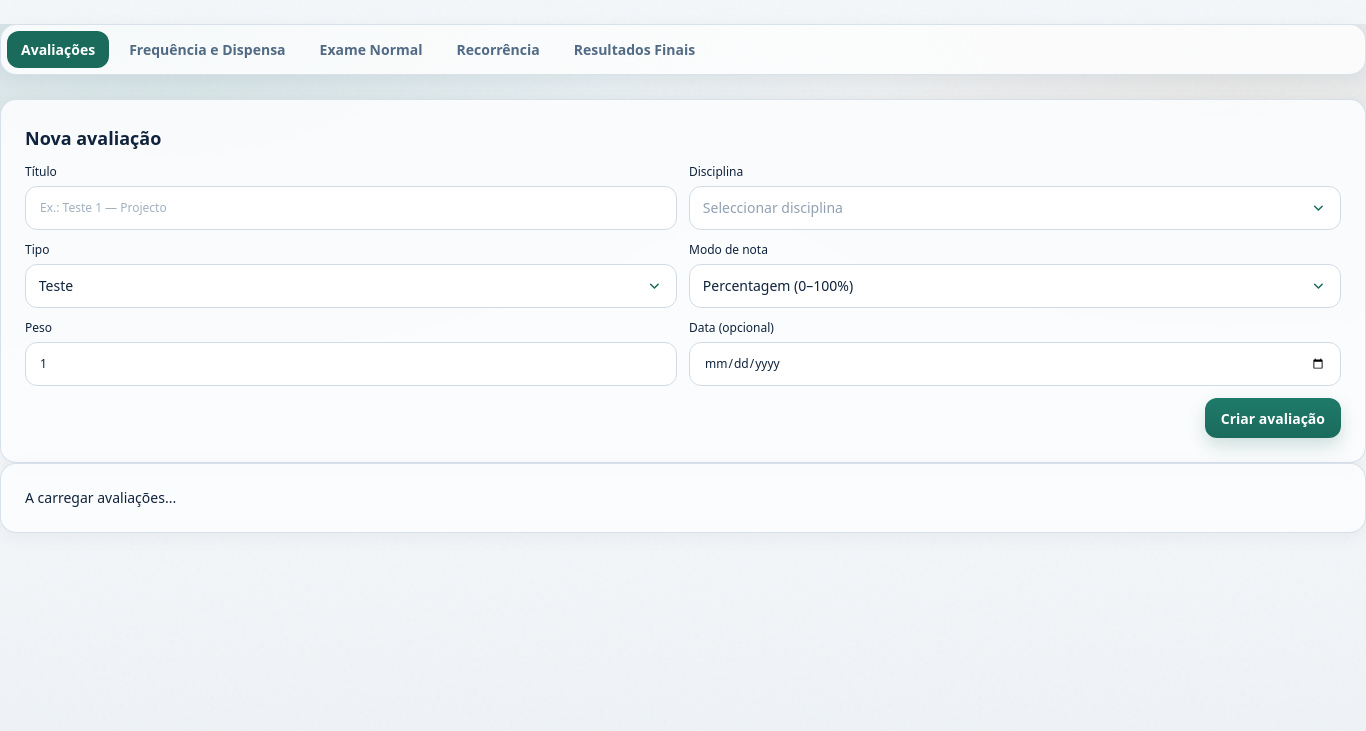
Scenario: AssessmentsPage › docente guarda as regras da disciplina (testes exigidos e mínimo de recorrência)
Click the tab "Frequência e Dispensa" at {"x": 207, "y": 50}, box [115, 31, 300, 68]
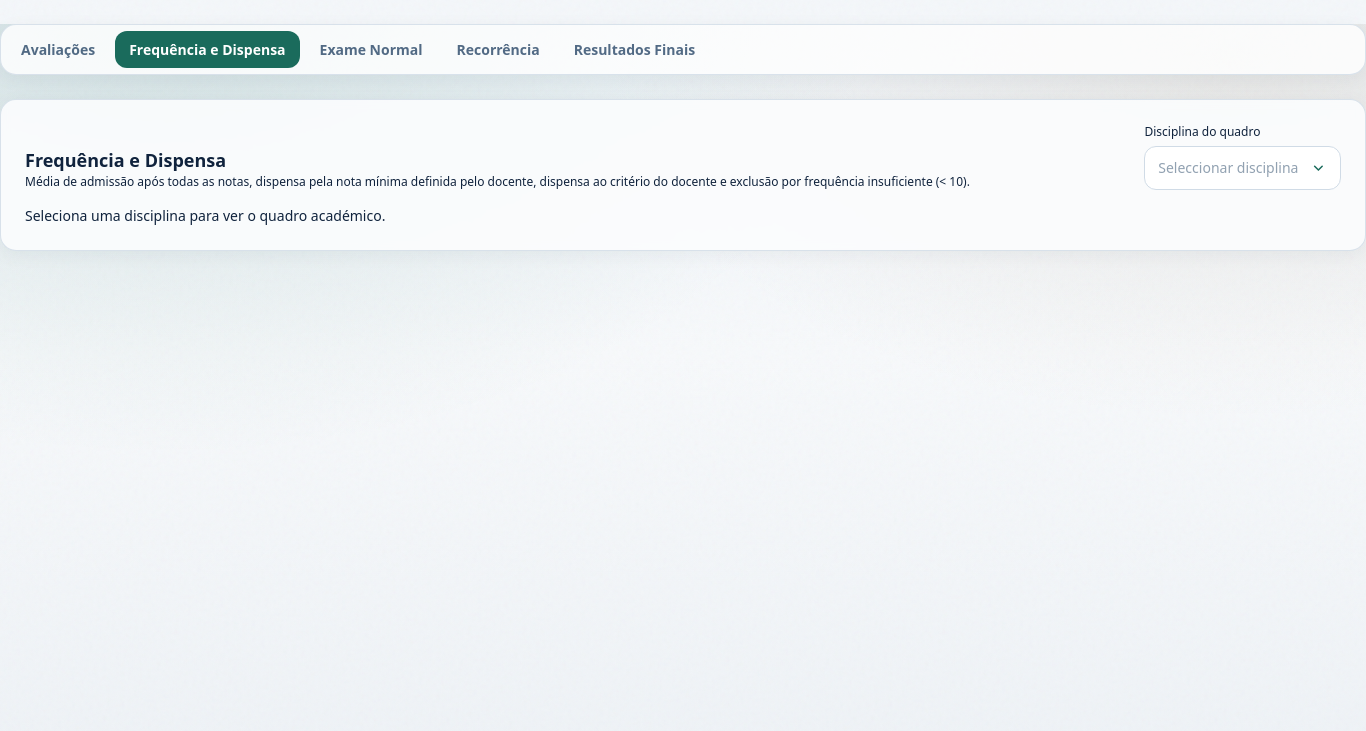
Expected: the label labelled "Disciplina do quadro" is shown
Select "PTP3 — Projeto" in the dropdown labelled "Disciplina do quadro Seleccionar disciplina" at {"x": 1243, "y": 157}, box [1144, 124, 1341, 190]
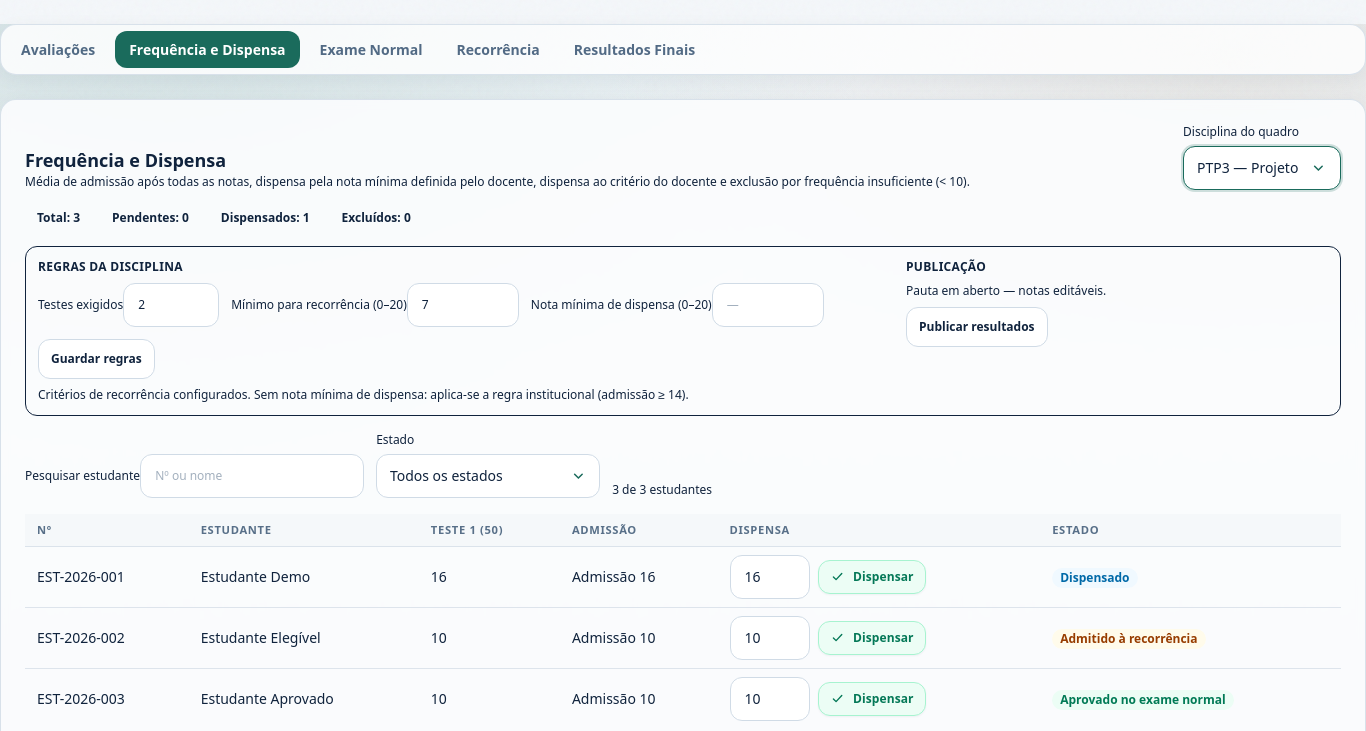
Expected: the number field labelled "Testes exigidos" holds "2", [123, 283, 219, 327]
Replace the text in the number field labelled "Mínimo para recorrência (0–20)" with "12" at {"x": 463, "y": 305}, box [407, 283, 519, 327]
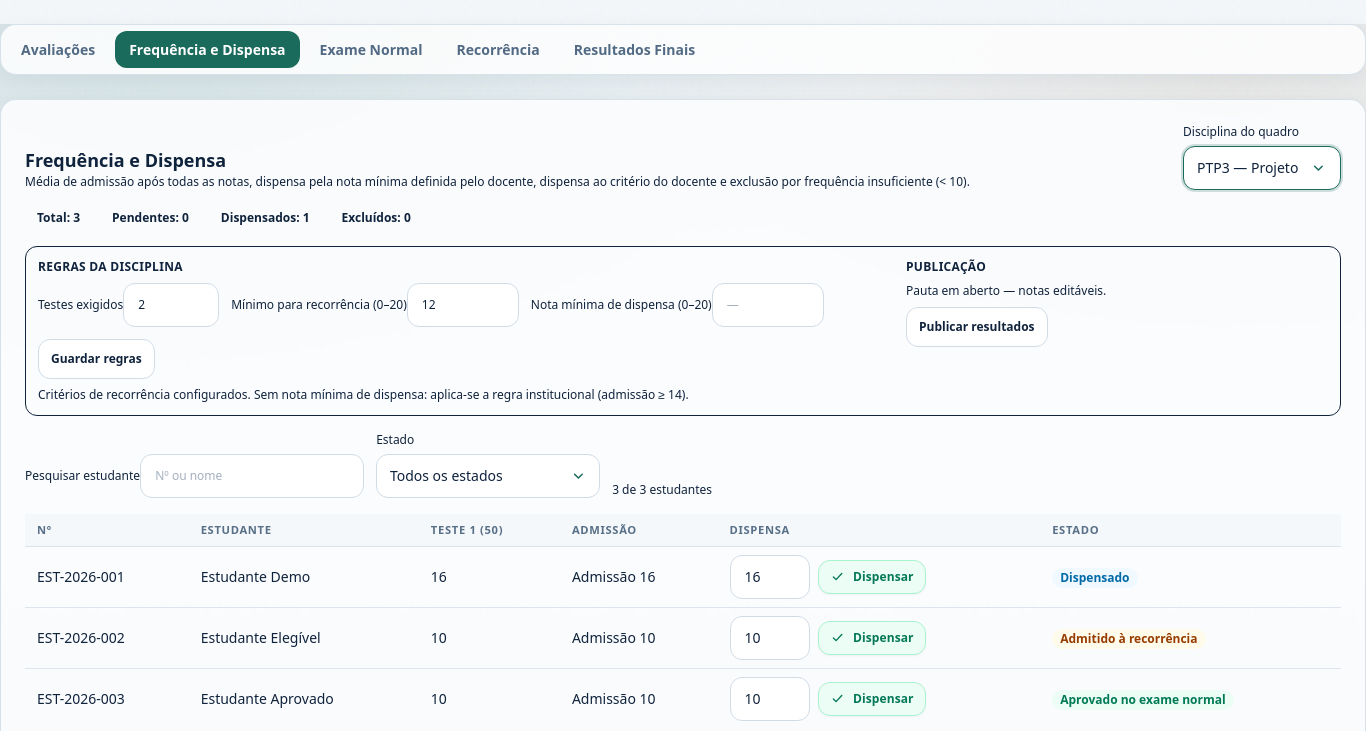
Click the button "Guardar regras" at {"x": 96, "y": 359}, box [38, 339, 155, 379]
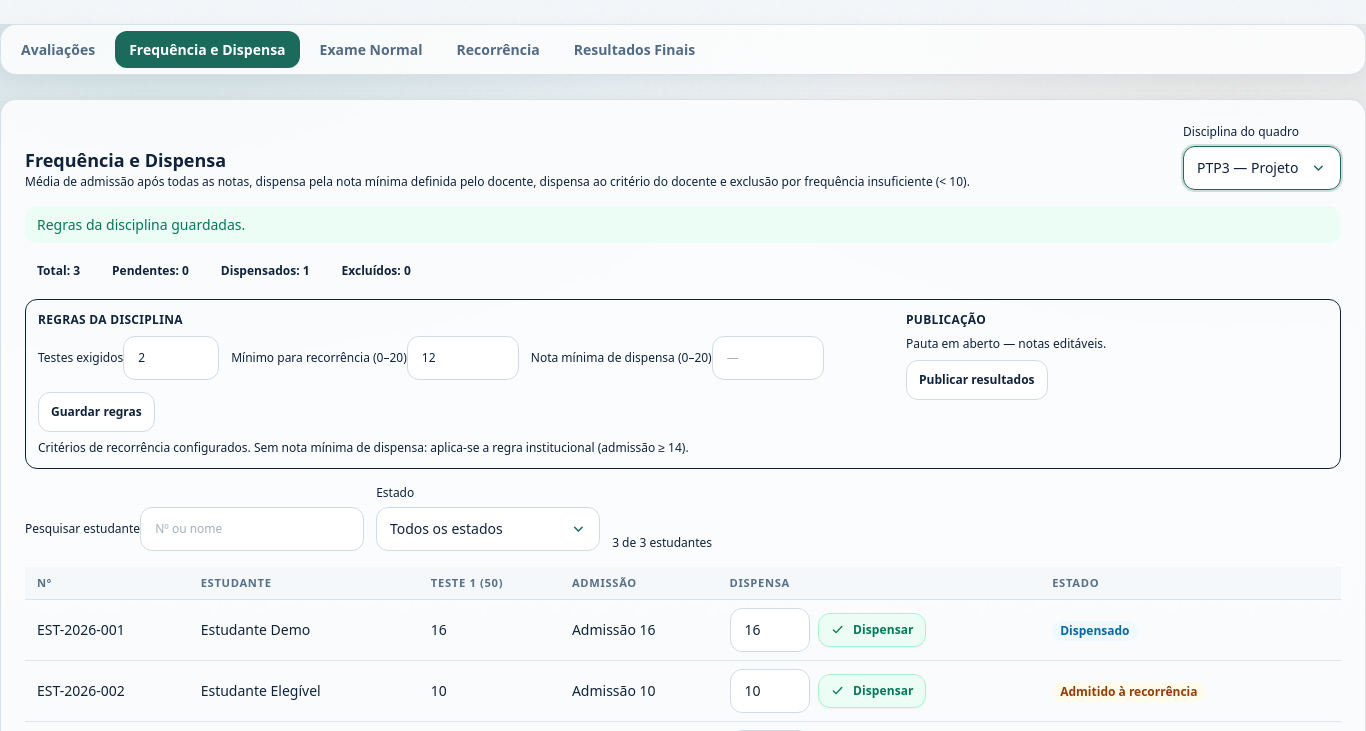
Expected: the text "Regras da disciplina guardadas." is shown, [25, 206, 1341, 243]
